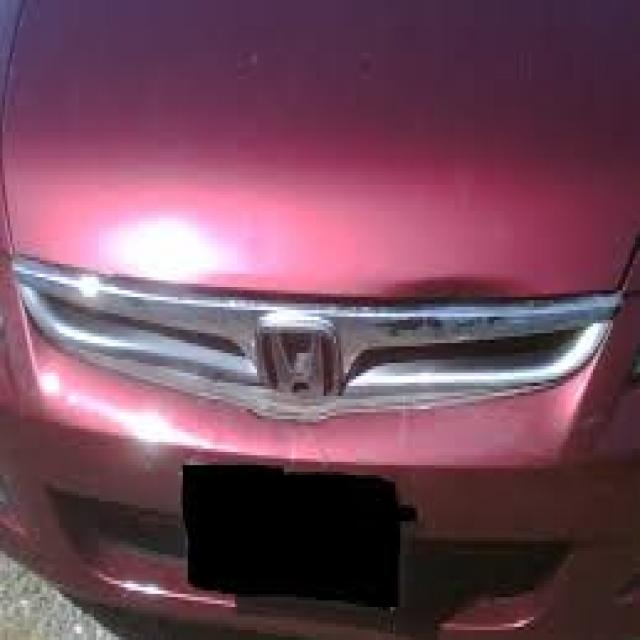minor: (372, 266, 534, 312)
